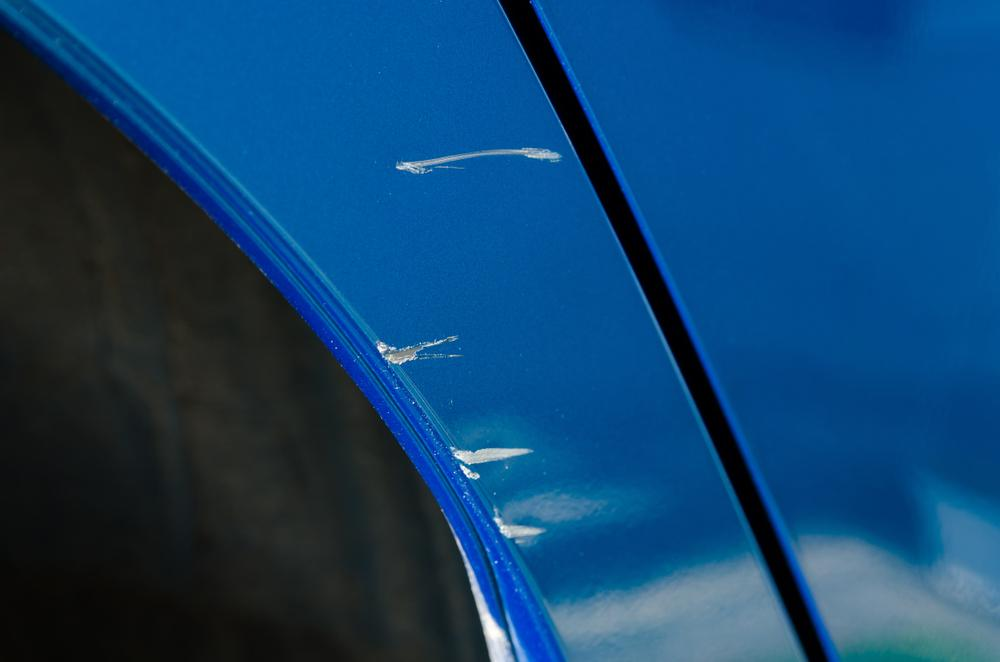scratch: (369, 328, 557, 554), (396, 143, 569, 176)
